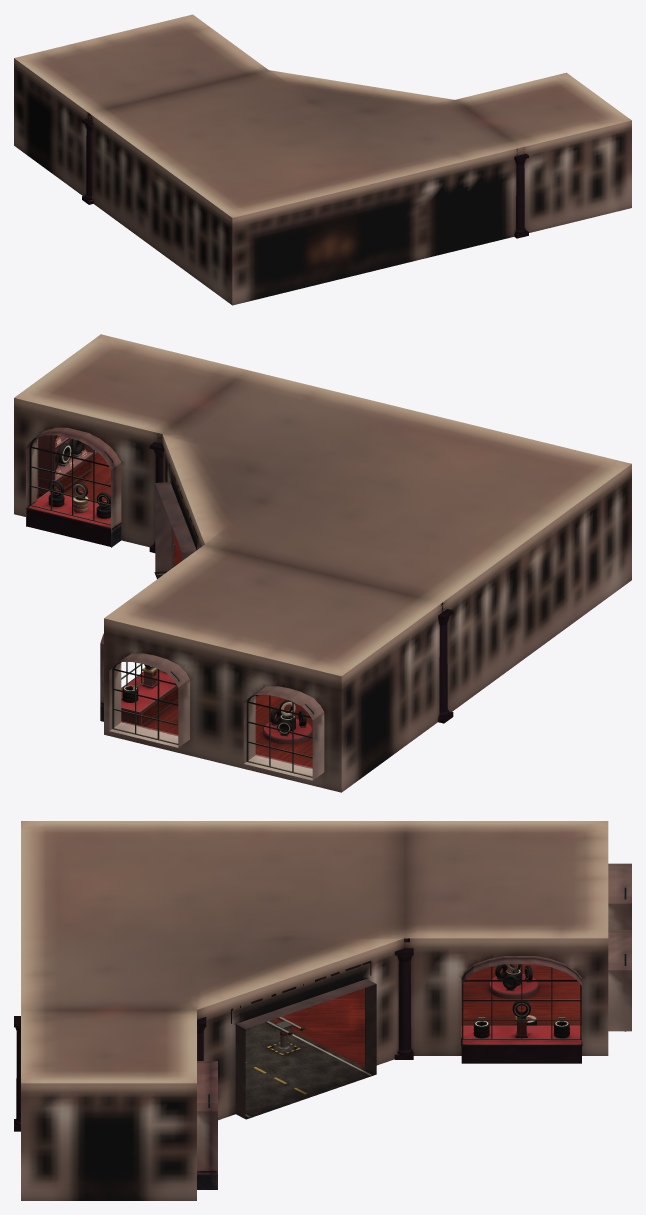
The model's file is loja_do_luigi_noite.glb.
3 renders of one model, top to bottom at view 1: azimuth 30°, elevation 25°; view 2: azimuth 150°, elevation 25°; view 3: azimuth 270°, elevation 25°, orthographic. The views are drawn at different scales.
Visible parts, largest first — view 1: loja_cores_1; view 2: loja_cores_1, loja_cores_3, loja_piso_1, loja_cores_2, loja_pneus_2, loja_pneus_1, loja_raiz_1; view 3: loja_cores_1, loja_piso_1, loja_cores_3, loja_asfalto_1, loja_pneus_1, loja_pneus_2.
Boxes of the visible parts, x1,y1,x2,y2 form: loja_cores_1: [14, 14, 631, 305]; loja_cores_1: [14, 334, 631, 792]; loja_cores_3: [25, 435, 312, 744]; loja_piso_1: [36, 453, 312, 767]; loja_cores_2: [38, 435, 93, 496]; loja_pneus_2: [48, 480, 306, 734]; loja_pneus_1: [55, 435, 166, 702]; loja_raiz_1: [56, 458, 178, 724]; loja_cores_1: [14, 821, 631, 1200]; loja_piso_1: [272, 964, 581, 1068]; loja_cores_3: [197, 961, 582, 1189]; loja_asfalto_1: [245, 1020, 376, 1119]; loja_pneus_1: [473, 1001, 569, 1038]; loja_pneus_2: [495, 964, 536, 1025].
Size of the model in its own units: 31.41 by 6.5 by 30.94.
Materials: 7 (6 with a texture image).
